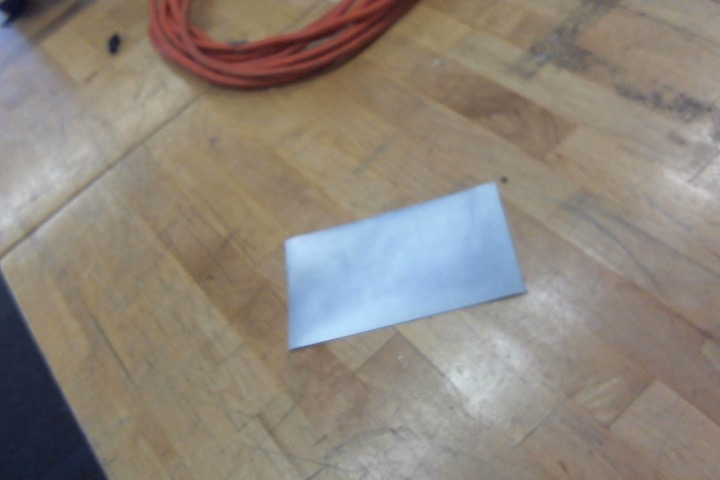Tape: (283, 182, 529, 350)
